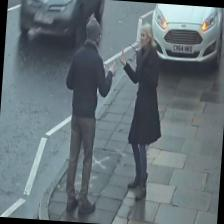person: (57, 15, 120, 212), (108, 20, 166, 201)
